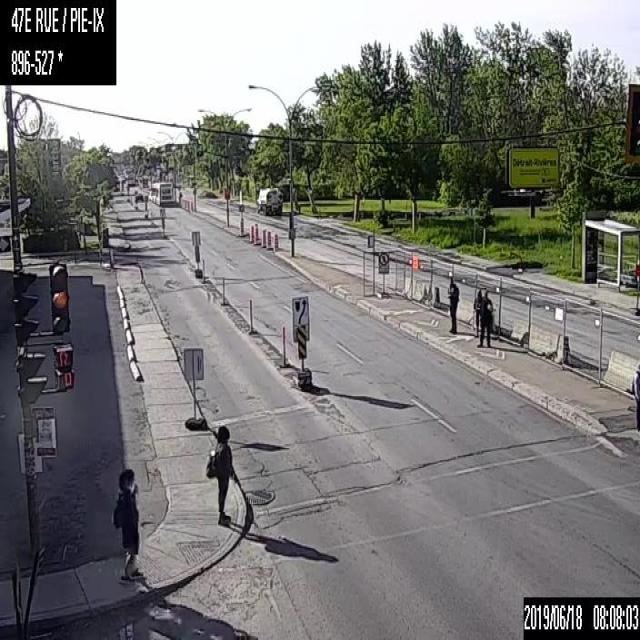bus: (148, 178, 175, 205)
construction: (180, 196, 193, 212), (248, 298, 253, 334), (281, 324, 285, 367), (260, 229, 266, 246), (221, 276, 224, 307), (253, 223, 258, 241), (273, 232, 278, 250), (266, 230, 271, 247), (201, 257, 204, 284), (249, 224, 253, 242)
pedestrian: (112, 468, 140, 580), (204, 422, 234, 526), (476, 286, 493, 346), (446, 275, 458, 333), (472, 288, 484, 337), (631, 358, 639, 429)
vehicle: (255, 184, 283, 215), (134, 191, 143, 200)
